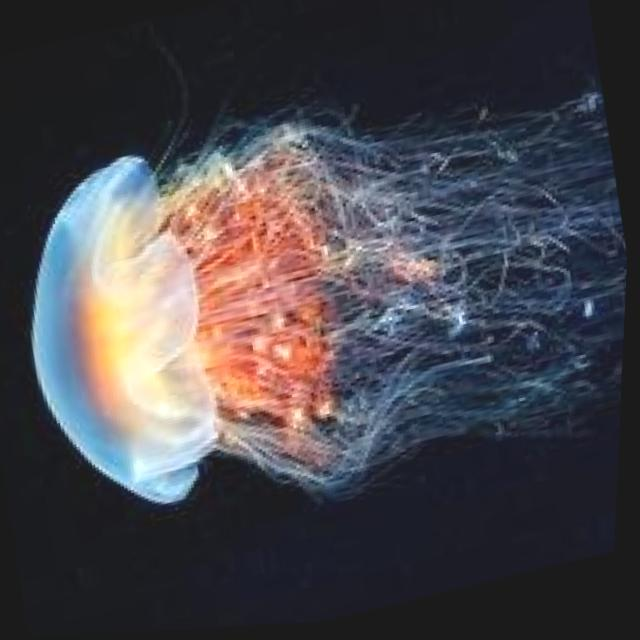Jellyfish: (0, 34, 638, 565)
